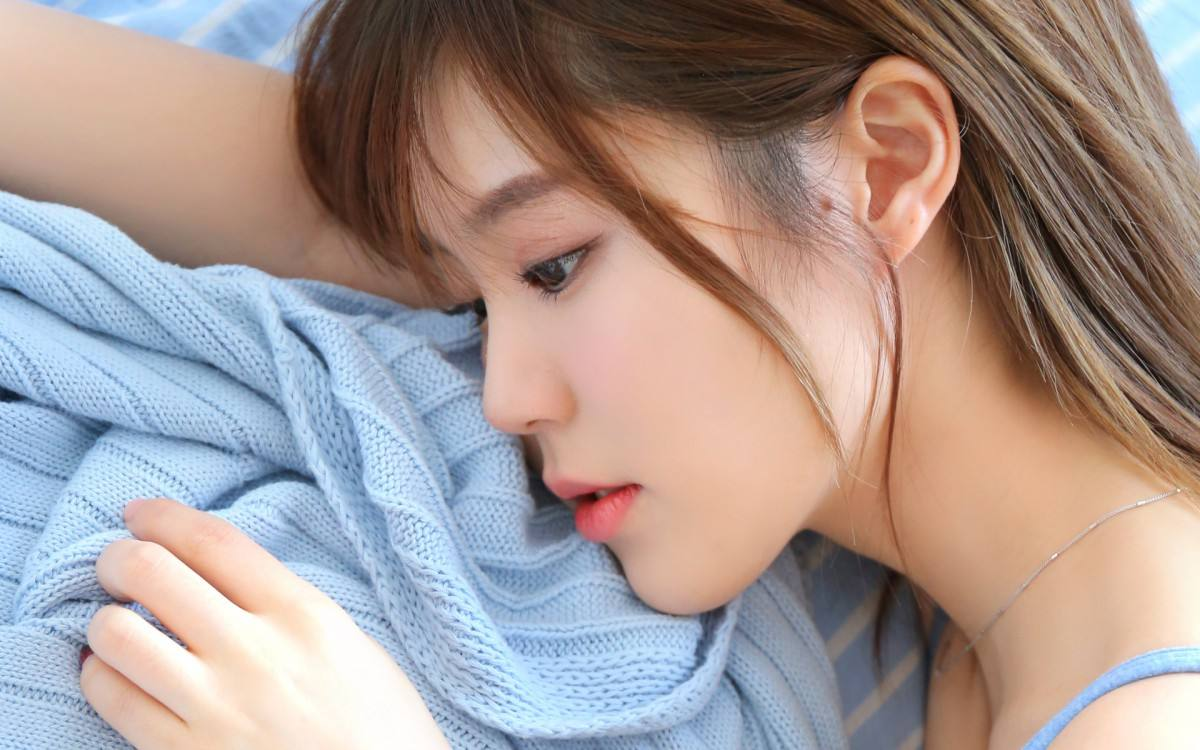person: (238, 8, 1187, 637)
